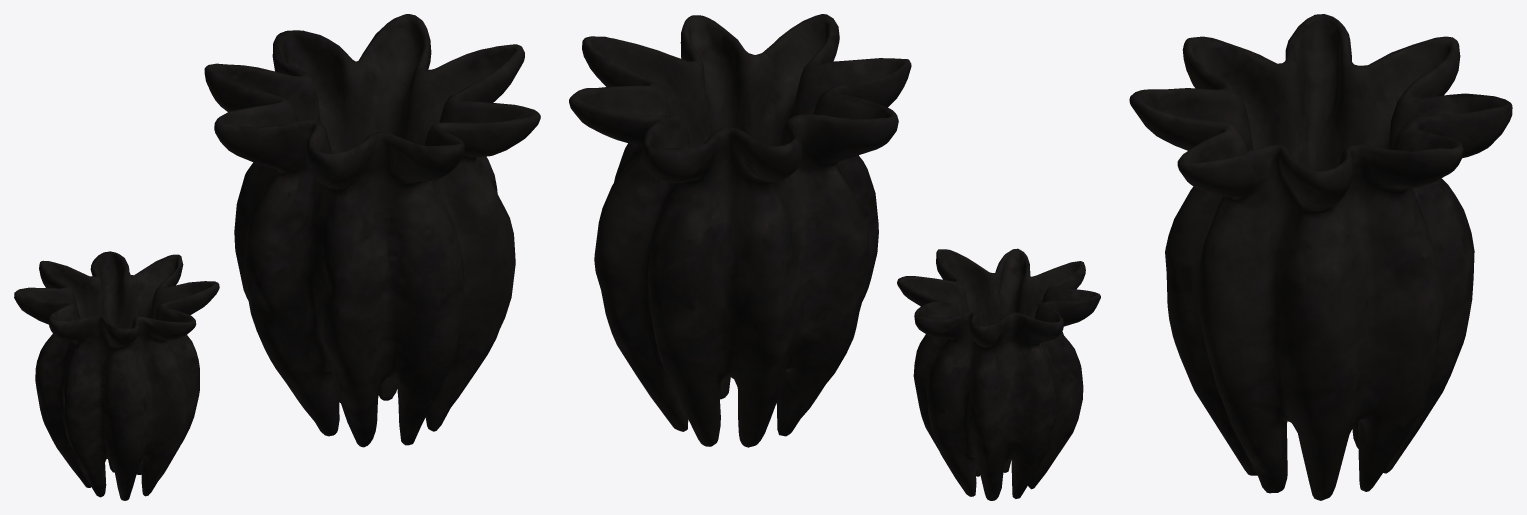
Rendered from lotus-vase-runtime-lite.glb.
The picture shows the model from 3 angles, left to right: view 1: azimuth 30°, elevation 25°; view 2: azimuth 150°, elevation 25°; view 3: azimuth 270°, elevation 25°; orthographic projection. The views are drawn at different scales.
Parts seen in each view (by area): view 1: Lotus Vase Big; view 2: Lotus Vase Big; view 3: Lotus Vase Big.
Boxes of the visible parts, bbox=[...] form: Lotus Vase Big: bbox=[14, 14, 540, 500]; Lotus Vase Big: bbox=[569, 14, 1100, 500]; Lotus Vase Big: bbox=[1129, 14, 1512, 500].
Bounding box in the file's own units: 0.8963 × 0.5994 × 0.548.
1 material, 1 textured.
